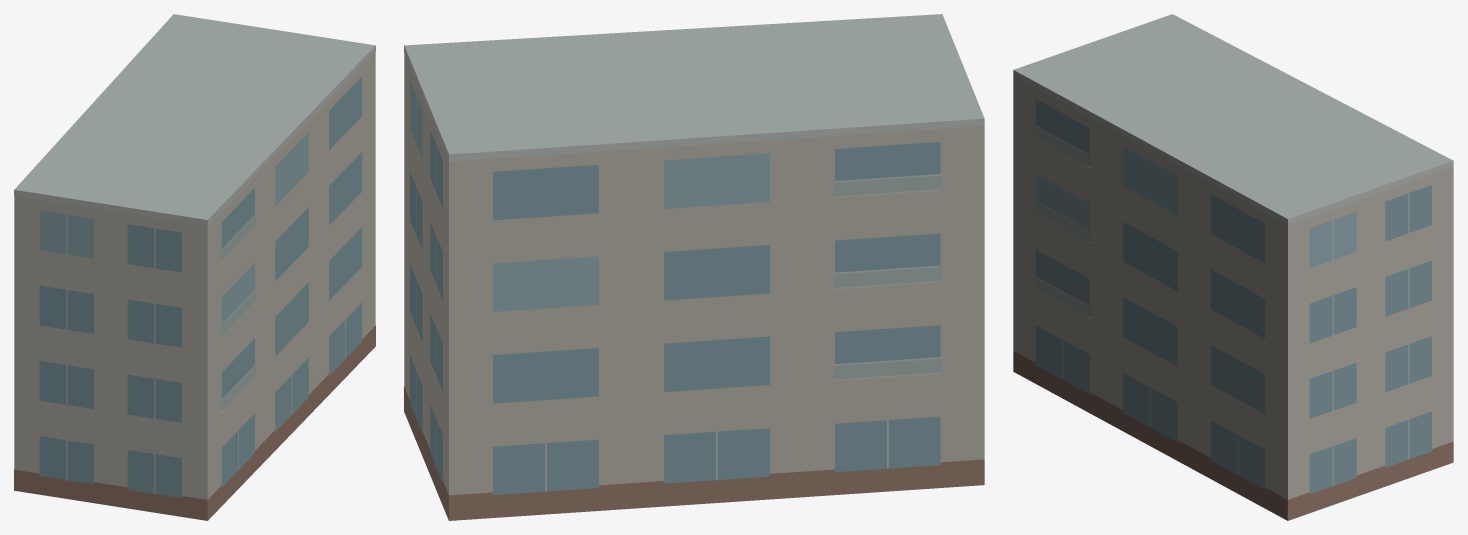
Rendered from survey-upis-32596872.glb.
3 renders of one model, left to right at view 1: azimuth 30°, elevation 25°; view 2: azimuth 150°, elevation 25°; view 3: azimuth 270°, elevation 25°, orthographic. The views are drawn at different scales.
Visible parts, largest first — view 1: survey-upis-32596872.tmp; view 2: survey-upis-32596872.tmp; view 3: survey-upis-32596872.tmp.
Part boxes in pixels (box(x1,y1,x2,y2)): survey-upis-32596872.tmp: box(14, 14, 375, 520); survey-upis-32596872.tmp: box(404, 14, 984, 520); survey-upis-32596872.tmp: box(1013, 14, 1453, 520).
Size of the model in its own units: 17.8 by 12.2 by 16.14.
